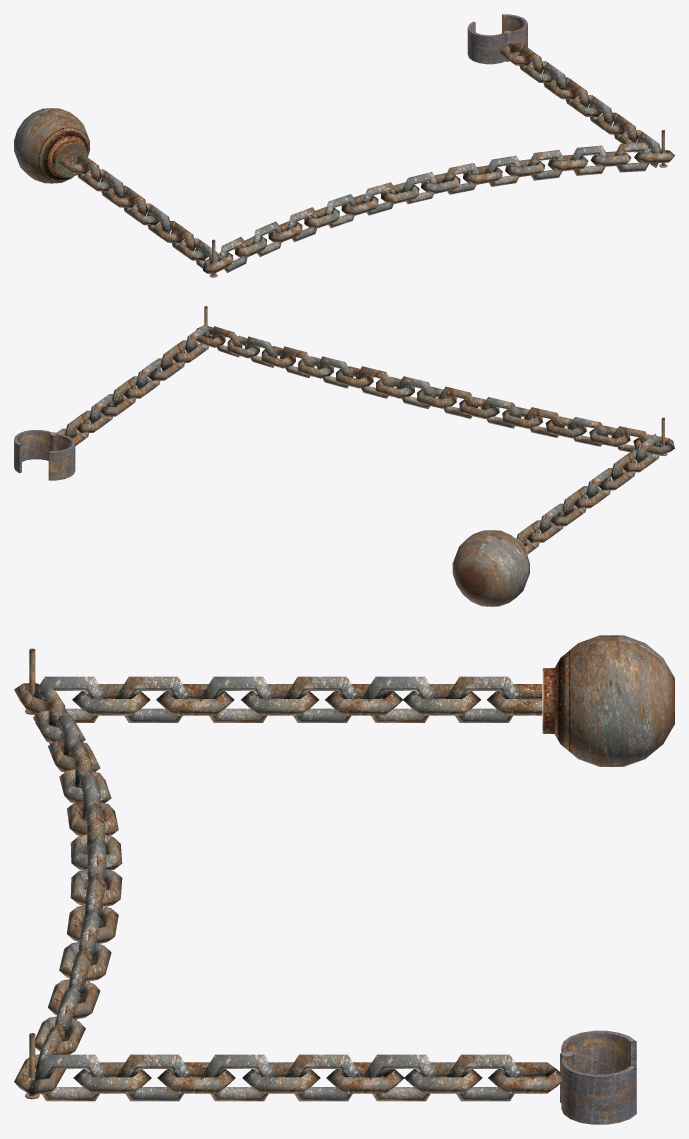
File: chain.fbx
The picture shows the model from 3 angles, top to bottom: view 1: azimuth 30°, elevation 25°; view 2: azimuth 150°, elevation 25°; view 3: azimuth 270°, elevation 25°; orthographic projection. The views are drawn at different scales.
Visible parts, largest first — view 1: Sphere01; view 2: Sphere01; view 3: Sphere01.
Part boxes in pixels (x1,y1,x2,y2): Sphere01: [14, 14, 674, 277]; Sphere01: [14, 306, 674, 606]; Sphere01: [14, 635, 674, 1124].
Bounding box in the file's own units: 79.56 × 10.38 × 51.81.
